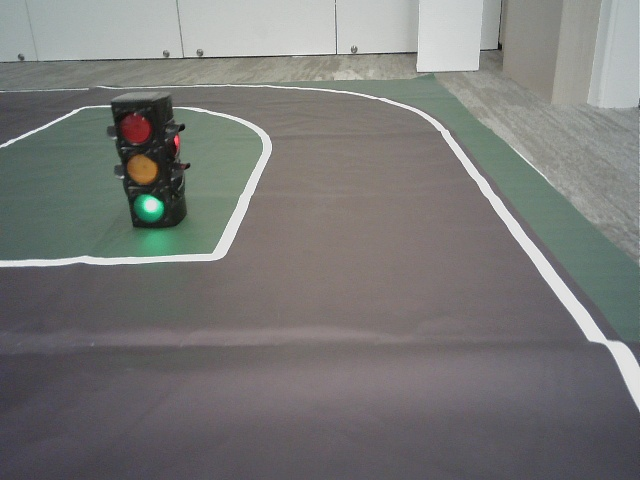green: (115, 107, 168, 222)
